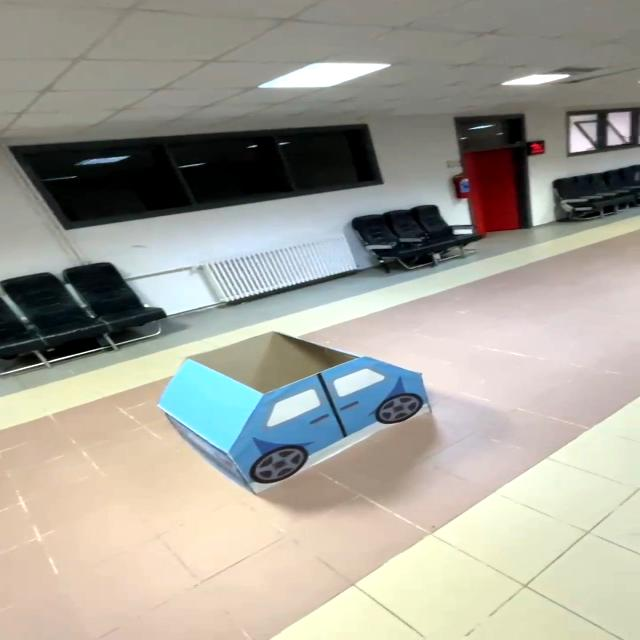blue_car: (142, 326, 457, 501)
